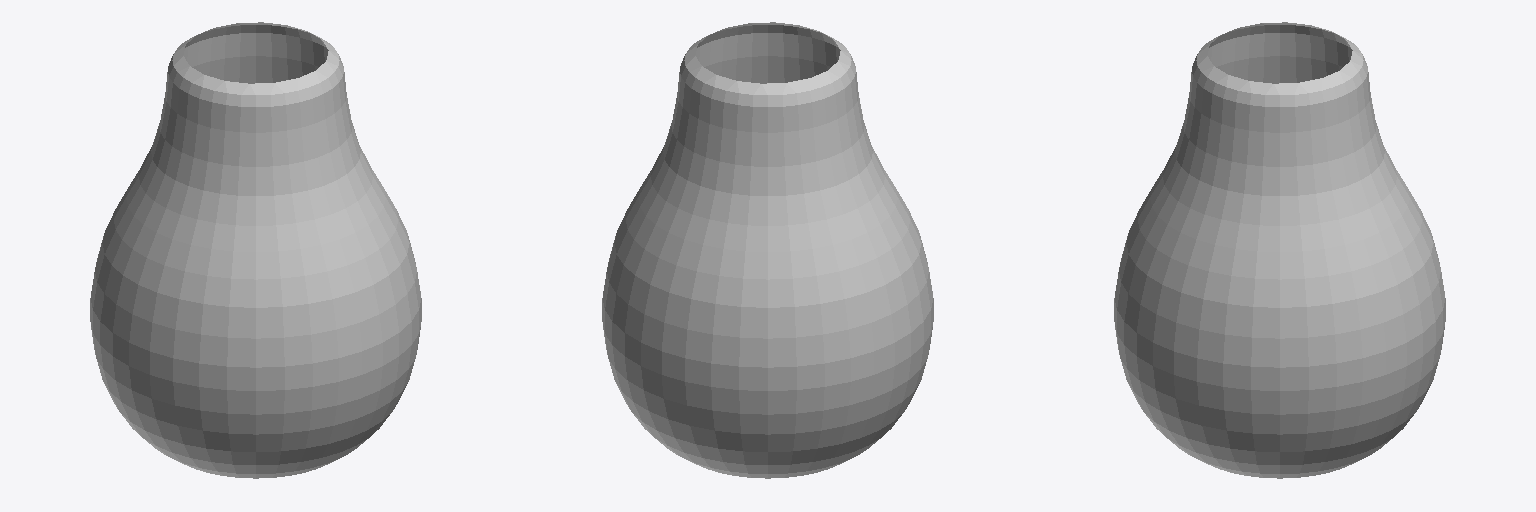
File: FOCO_PASILLO.obj
3 renders of one model, left to right at view 1: azimuth 30°, elevation 25°; view 2: azimuth 150°, elevation 25°; view 3: azimuth 270°, elevation 25°, orthographic.
Parts seen in each view (by area): view 1: FOCOS.004; view 2: FOCOS.004; view 3: FOCOS.004.
Boxes of the visible parts, <box> form: FOCOS.004: <box>90,22,421,478</box>; FOCOS.004: <box>602,22,933,478</box>; FOCOS.004: <box>1114,22,1445,478</box>.
Size of the model in its own units: 0.095 by 0.1284 by 0.095.